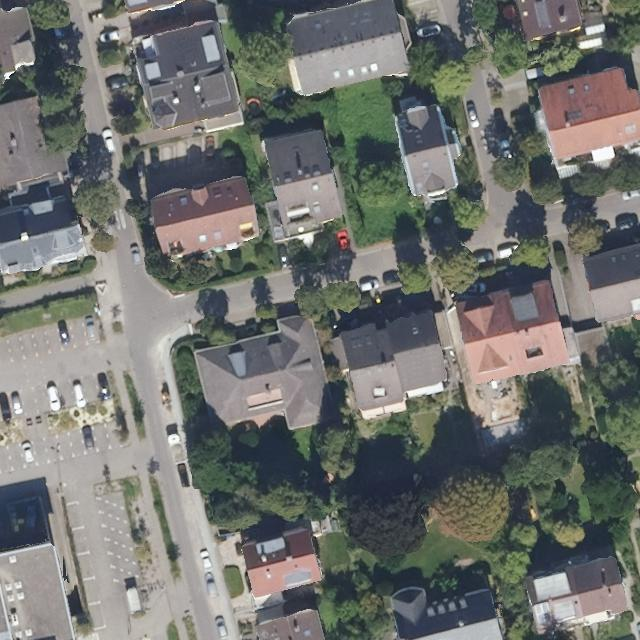PV: (534, 603, 550, 625)
